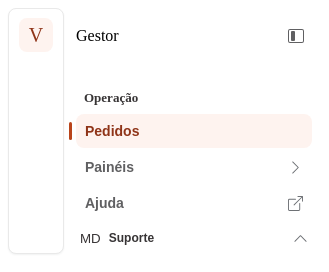
SidebarProvider: conta controlável › não controlada, começa fechada e avisa a mudança
This screenshot has width=329, height=272.
Click the button "MD Suporte" at (194, 238), box x1=76 y1=226 x2=312 y2=250
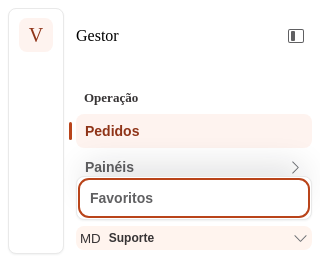
Now the button "MD Suporte" is expanded, box x1=76 y1=226 x2=312 y2=250
